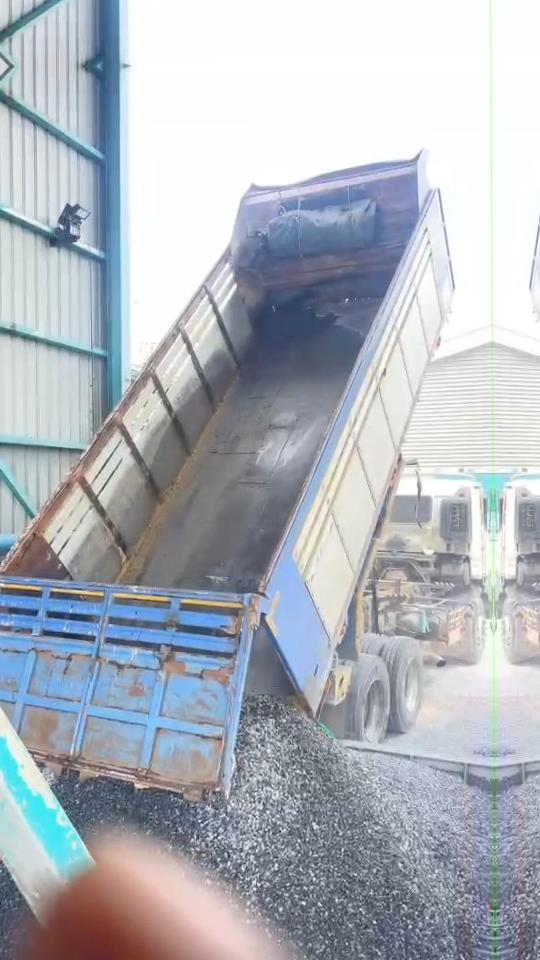gravel: (54, 697, 492, 960), (0, 867, 23, 960)
